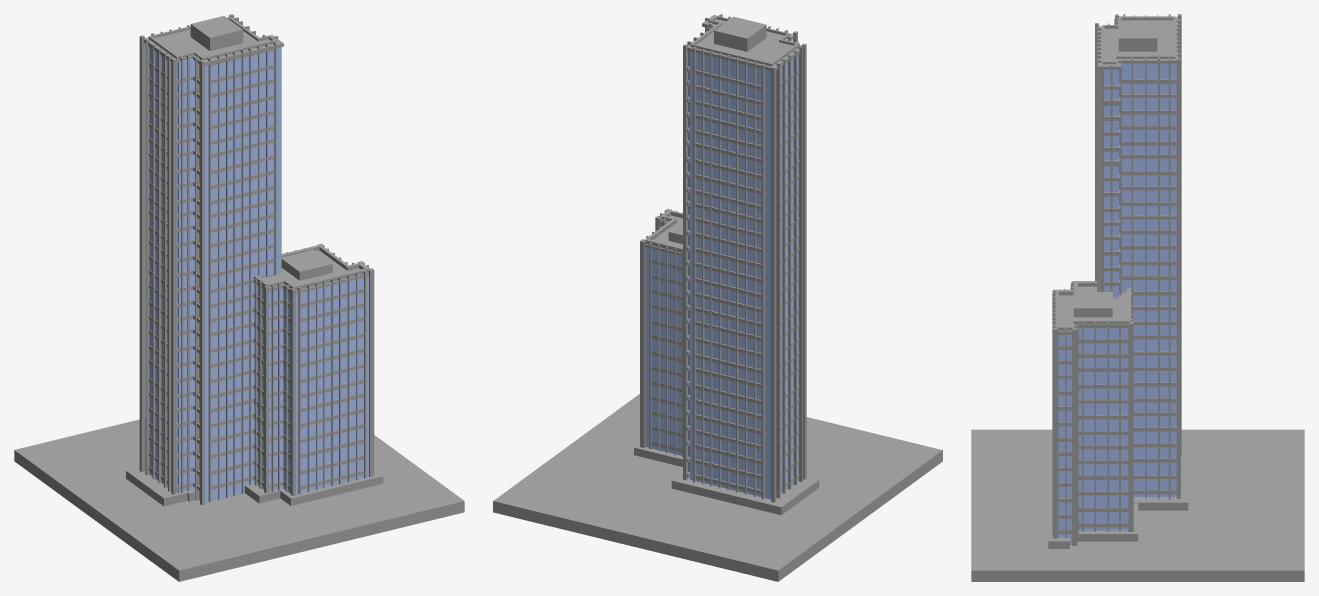
File: Buildings.fbx
3 views of the same model, side by side, from view 1: azimuth 30°, elevation 25°; view 2: azimuth 150°, elevation 25°; view 3: azimuth 270°, elevation 25° (orthographic).
Parts seen in each view (by area): view 1: pPlane1, pasted__pasted__pasted__pasted__pasted__pasted__pCube3, pasted__pasted__pasted__pasted__pasted__pasted__pasted__past (×9), pasted__pasted__pasted__pasted__pasted__pasted__pasted__pCub (×3), pasted__pasted__pCube2 (×5), pasted__pCube2 (×4), group15_pasted__group14_pasted__pasted__group13_pasted__past, pasted__pasted__pasted__pasted__pCube2 (×4), group34_pasted__group23_pasted__pasted__group22_pasted__past, pasted__pasted__pasted__pCube2 (×3), group34_pasted__group13_pasted__pasted__group12_pasted__past, pasted__pasted__group15_pasted__group14_pasted__pasted__grou (×2) (+11 smaller); view 2: pPlane1, pasted__pasted__pasted__pasted__pasted__pasted__pasted__pCub (×4), pasted__pasted__pasted__pasted__pasted__pasted__pasted__past (×4), pasted__pasted__pCube2 (×5), pasted__pasted__pasted__pCube2 (×4), pasted__pasted__pasted__pasted__pCube2 (×4), pasted__pasted__pasted__pasted__pasted__pCube2 (×3), pasted__pCube1, pasted__pasted__pasted__pasted__pasted__pasted__pCube1, pasted__pCube2, pCube4, group106_pasted__group34_pasted__pasted__group4_pasted__past; view 3: pPlane1, pasted__pasted__pasted__pasted__pasted__pasted__pasted__pCub (×4), pasted__pasted__pasted__pasted__pasted__pasted__pasted__past (×7), pasted__pasted__pasted__group15_pasted__group14_pasted__past, pasted__polySurface15 (×2), pasted__pasted__pasted__pasted__pasted__pCube2 (×3), pasted__pasted__pasted__pCube2 (×2), pasted__pasted__pasted__pasted__pasted__pasted__pCube1, pasted__pasted__pCube2 (×3), pasted__pasted__pCube1, pasted__pasted__pasted__pasted__pasted__pasted__pCube2, pasted__pasted__pasted__pCube1 (+7 smaller).
Boxes of the visible parts, <box> form: pPlane1: <box>14,418,464,581</box>; pasted__pasted__pasted__pasted__pasted__pasted__pCube3: <box>204,47,281,502</box>; pasted__pasted__pasted__pasted__pasted__pasted__pasted__past (×9): <box>149,44,290,493</box>; pasted__pasted__pasted__pasted__pasted__pasted__pasted__pCub (×3): <box>148,16,368,494</box>; pasted__pasted__pCube2 (×5): <box>139,35,268,494</box>; pasted__pCube2 (×4): <box>179,49,243,505</box>; group15_pasted__group14_pasted__pasted__group13_pasted__past: <box>211,64,274,489</box>; pasted__pasted__pasted__pasted__pCube2 (×4): <box>145,39,235,500</box>; group34_pasted__group23_pasted__pasted__group22_pasted__past: <box>297,271,366,494</box>; pasted__pasted__pasted__pCube2 (×3): <box>168,53,295,497</box>; group34_pasted__group13_pasted__pasted__group12_pasted__past: <box>301,288,364,489</box>; pasted__pasted__group15_pasted__group14_pasted__pasted__grou (×2): <box>176,76,199,490</box>; pPlane1: <box>493,394,942,581</box>; pasted__pasted__pasted__pasted__pasted__pasted__pasted__pCub (×4): <box>640,15,799,499</box>; pasted__pasted__pasted__pasted__pasted__pasted__pasted__past (×4): <box>645,54,798,493</box>; pasted__pasted__pCube2 (×5): <box>649,43,806,502</box>; pasted__pasted__pasted__pCube2 (×4): <box>683,44,802,488</box>; pasted__pasted__pasted__pasted__pCube2 (×4): <box>674,49,780,498</box>; pasted__pasted__pasted__pasted__pasted__pCube2 (×3): <box>687,41,756,496</box>; pasted__pCube1: <box>671,472,819,515</box>; pasted__pasted__pasted__pasted__pasted__pasted__pCube1: <box>687,15,803,70</box>; pasted__pCube2: <box>693,47,696,482</box>; pCube4: <box>714,16,766,51</box>; group106_pasted__group34_pasted__pasted__group4_pasted__past: <box>644,209,682,252</box>; pPlane1: <box>971,429,1304,581</box>; pasted__pasted__pasted__pasted__pasted__pasted__pasted__pCub (×4): <box>1102,16,1176,531</box>; pasted__pasted__pasted__pasted__pasted__pasted__pasted__past (×7): <box>1058,57,1159,544</box>; pasted__pasted__pasted__group15_pasted__group14_pasted__past: <box>1122,79,1176,494</box>; pasted__polySurface15 (×2): <box>1058,324,1128,533</box>; pasted__pasted__pasted__pasted__pasted__pCube2 (×3): <box>1053,58,1170,538</box>; pasted__pasted__pasted__pCube2 (×2): <box>1118,58,1180,498</box>; pasted__pasted__pasted__pasted__pasted__pasted__pCube1: <box>1097,17,1178,69</box>; pasted__pasted__pCube2 (×3): <box>1074,14,1181,541</box>; pasted__pasted__pCube1: <box>1048,496,1138,548</box>; pasted__pasted__pasted__pasted__pasted__pasted__pCube2: <box>1072,327,1077,545</box>; pasted__pasted__pasted__pCube1: <box>1053,286,1132,328</box>.
Size of the model in its own units: 42.87 by 68.13 by 42.87.
